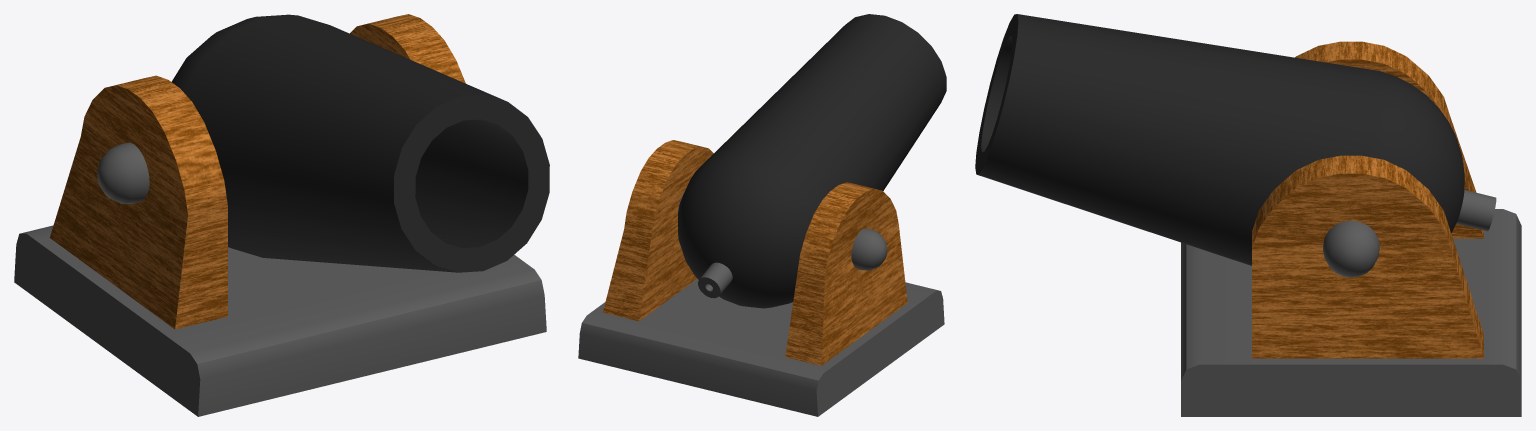
The model's file is cannon.fbx.
3 renders of one model, left to right at view 1: azimuth 30°, elevation 25°; view 2: azimuth 150°, elevation 25°; view 3: azimuth 270°, elevation 25°, orthographic. The views are drawn at different scales.
Visible parts, largest first — view 1: cannonBase, cannon; view 2: cannonBase, cannon; view 3: cannonBase, cannon.
Boxes of the visible parts, <box> form: cannonBase: <box>14,14,546,416</box>; cannon: <box>171,14,549,272</box>; cannonBase: <box>578,140,944,416</box>; cannon: <box>678,14,946,308</box>; cannonBase: <box>1181,41,1521,416</box>; cannon: <box>975,14,1496,265</box>.
Size of the model in its own units: 6.75 by 6.16 by 9.62.
Materials: 3 (1 with a texture image).
